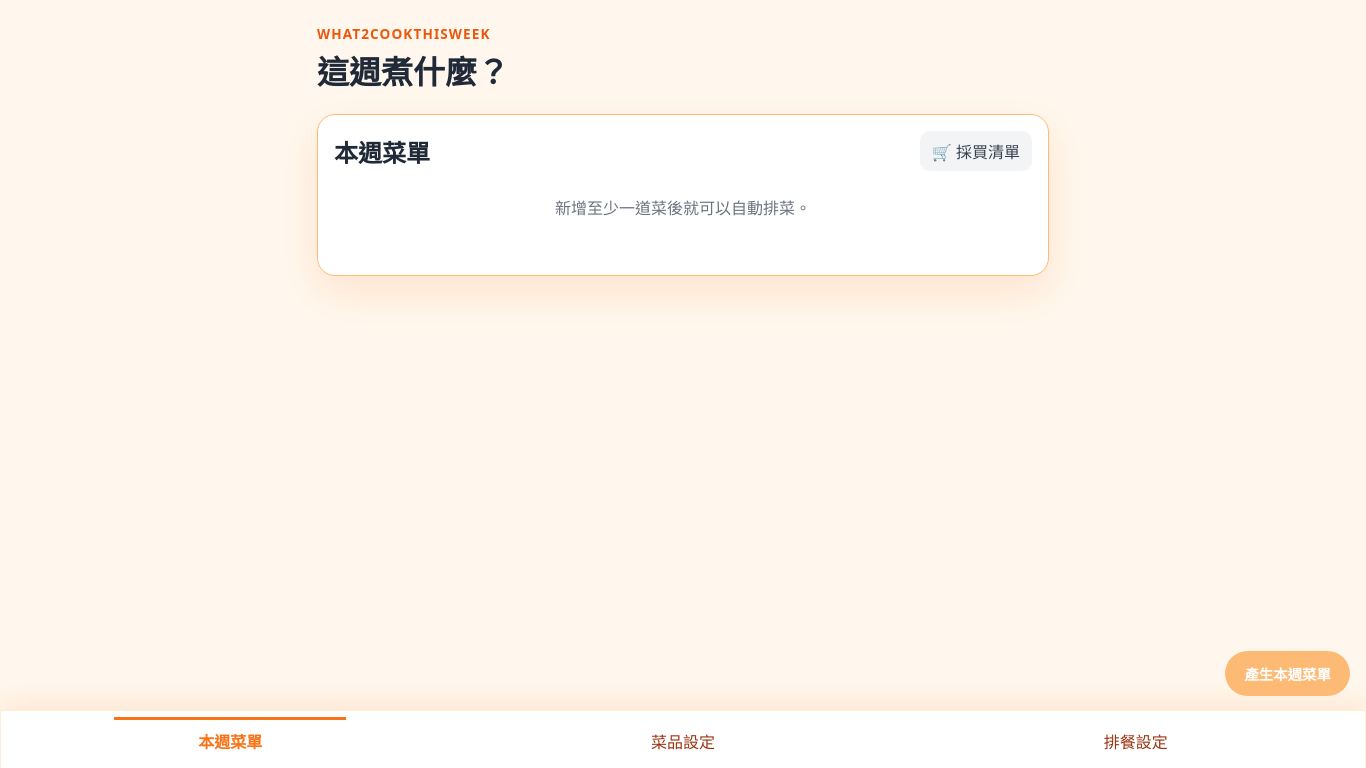
Scenario: App › hides filters by default and applies filters from the filter panel
Click the button "菜品設定" at (683, 740), box [459,717,907,762]
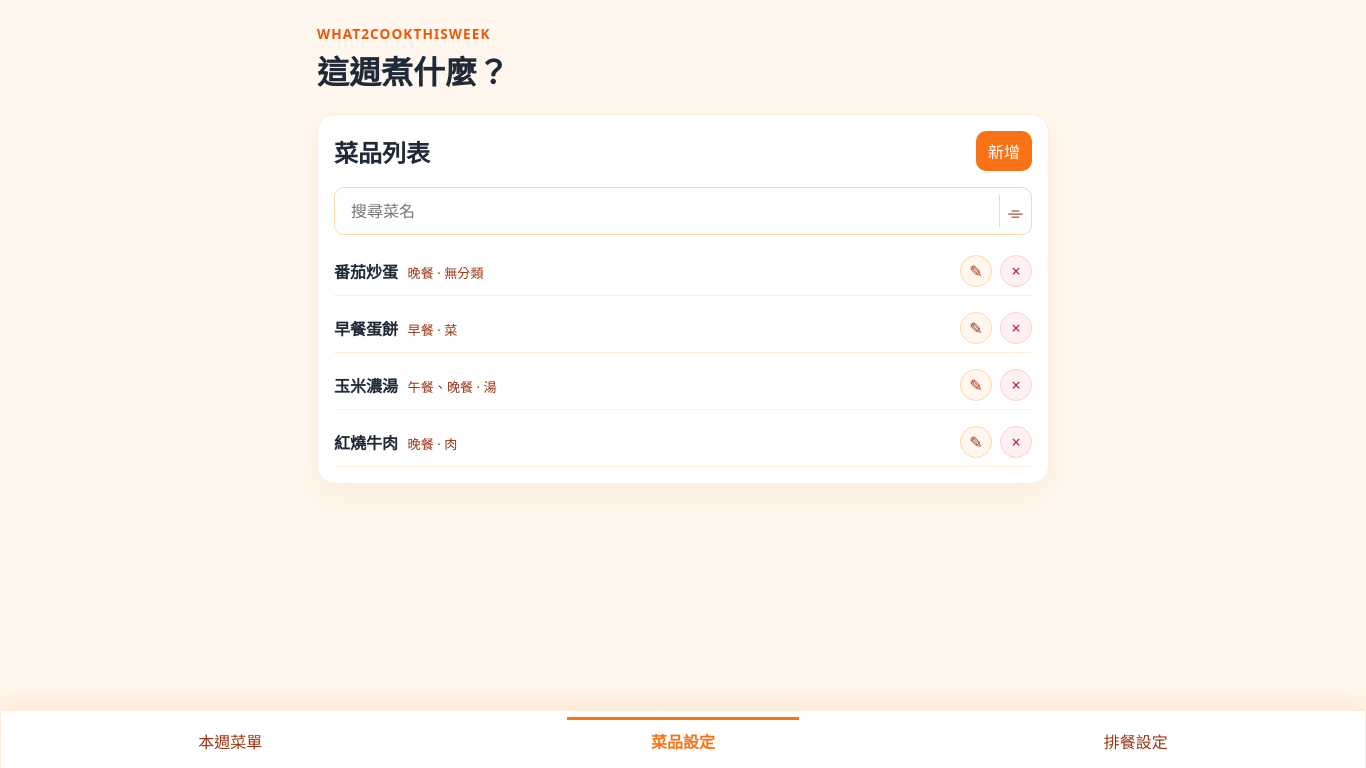
Check: the field labelled "餐別篩選" is not shown
Check: the field with placeholder "搜尋菜名" is shown, box [335,188,999,234]
Check: the button named "篩選" reads "⌯"
Click the button named "篩選" at (1015, 211), box [999,195,1031,227]
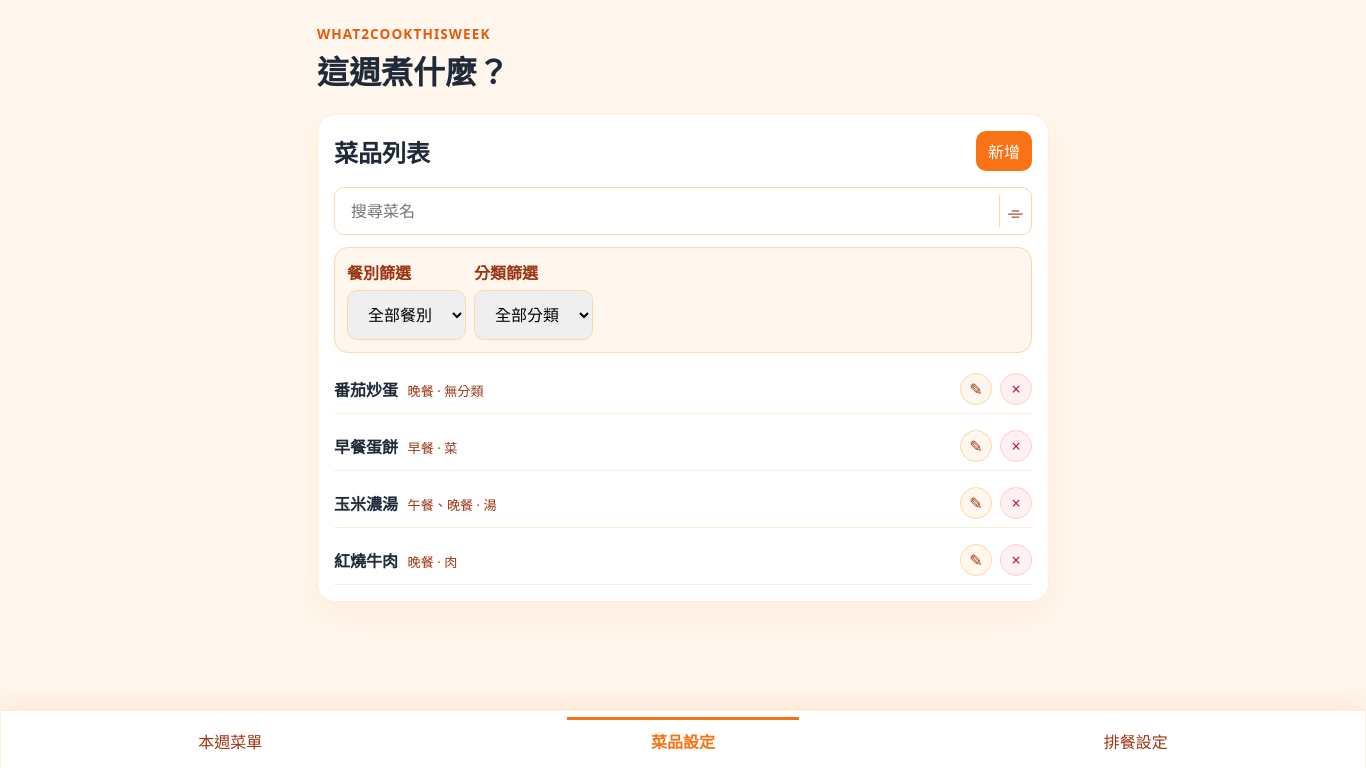
Select "晚餐" in the dropdown labelled "餐別篩選" at (406, 315), box [347,290,466,340]
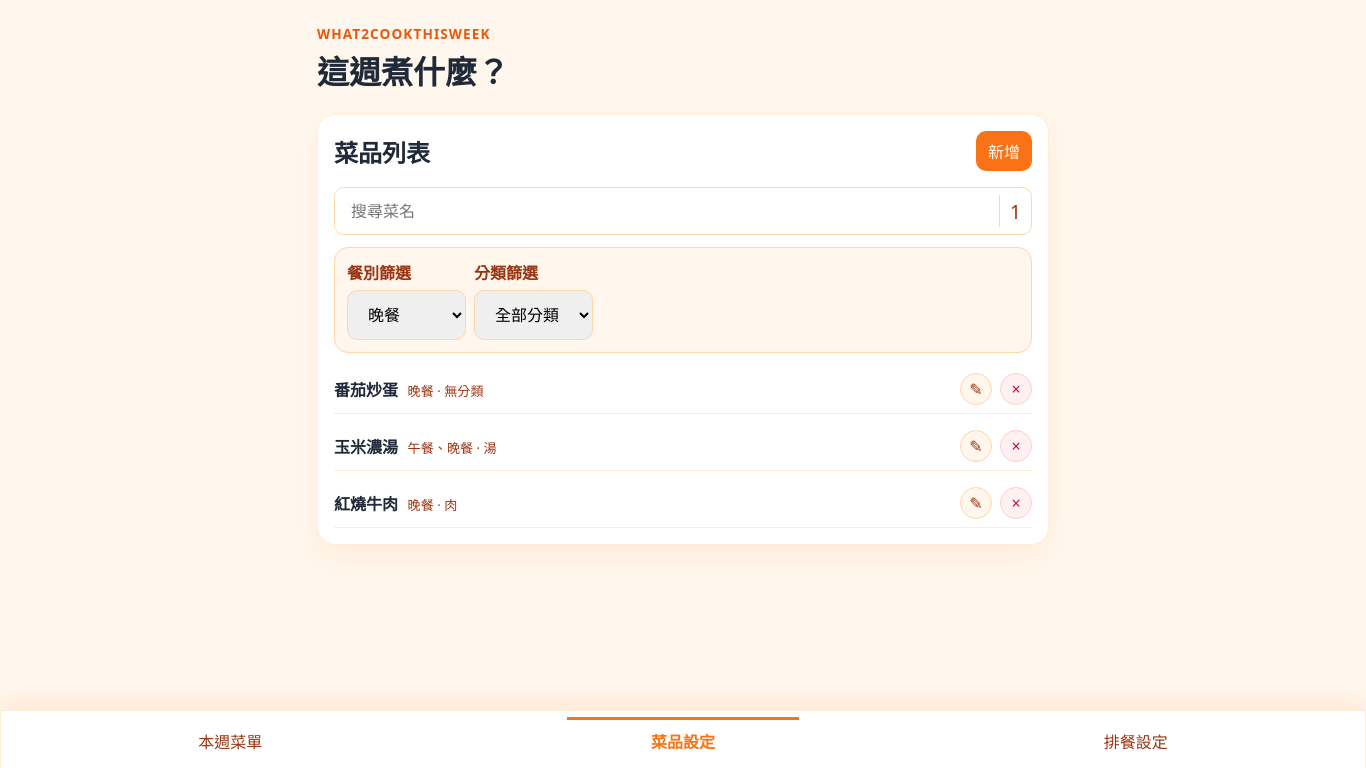
Select "湯" in the dropdown labelled "分類篩選" at (534, 315), box [474,290,593,340]
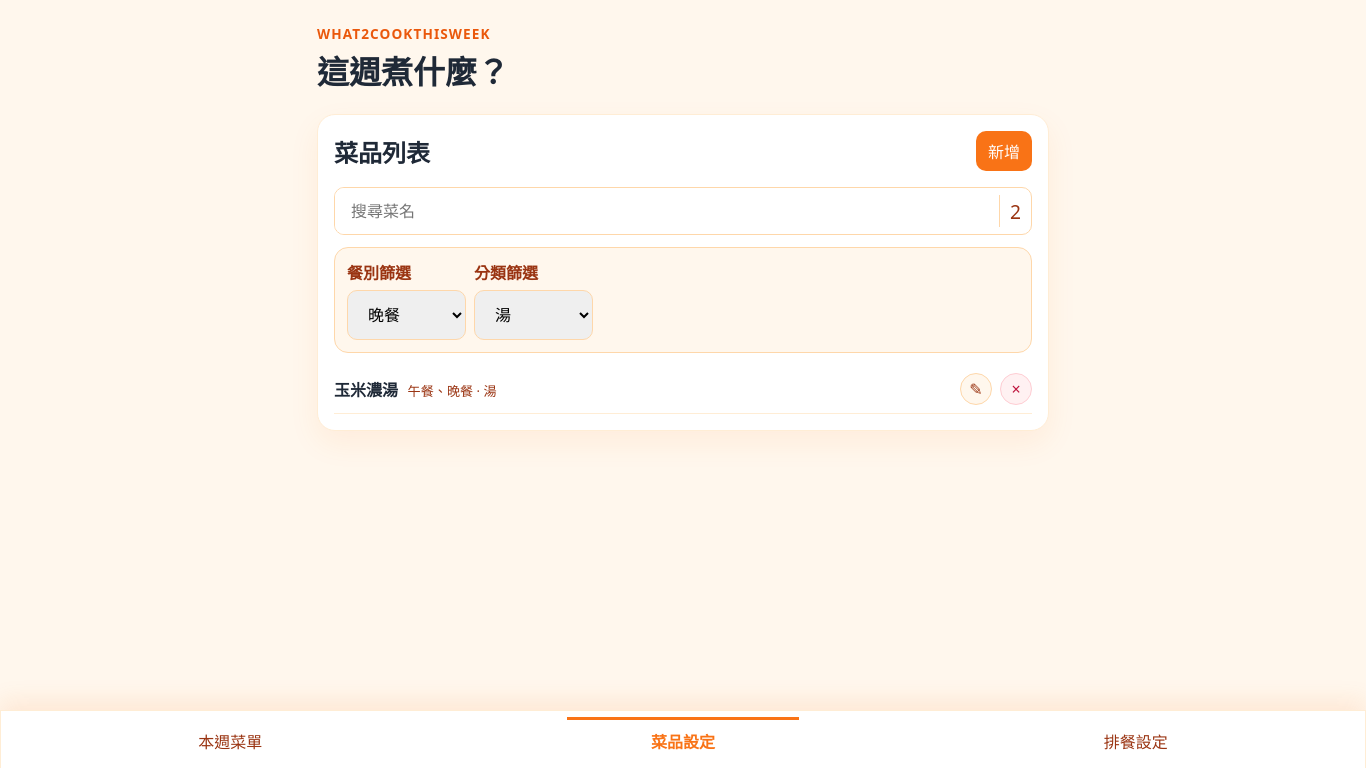
Check: the text "玉米濃湯" is shown, box [334,377,398,401]
Check: the button named "篩選 · 2" is shown, box [999,195,1031,227]
Check: the text "紅燒牛肉" is gone
